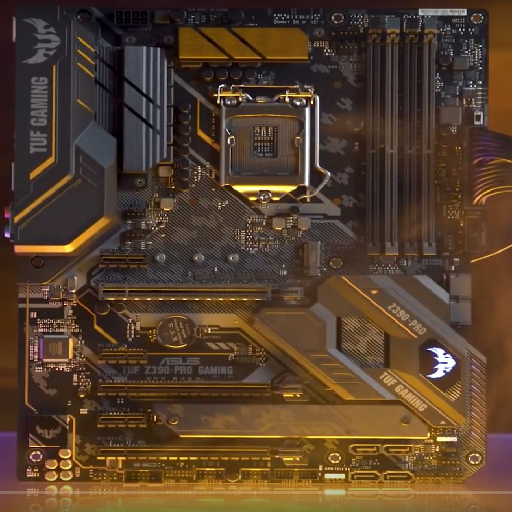CPU: (219, 83, 317, 206)
GPU: (96, 277, 311, 306), (95, 377, 310, 402)
MOTHERBOARD: (17, 6, 490, 483)
RAM: (362, 16, 439, 256)
SSD: (299, 239, 319, 276)
